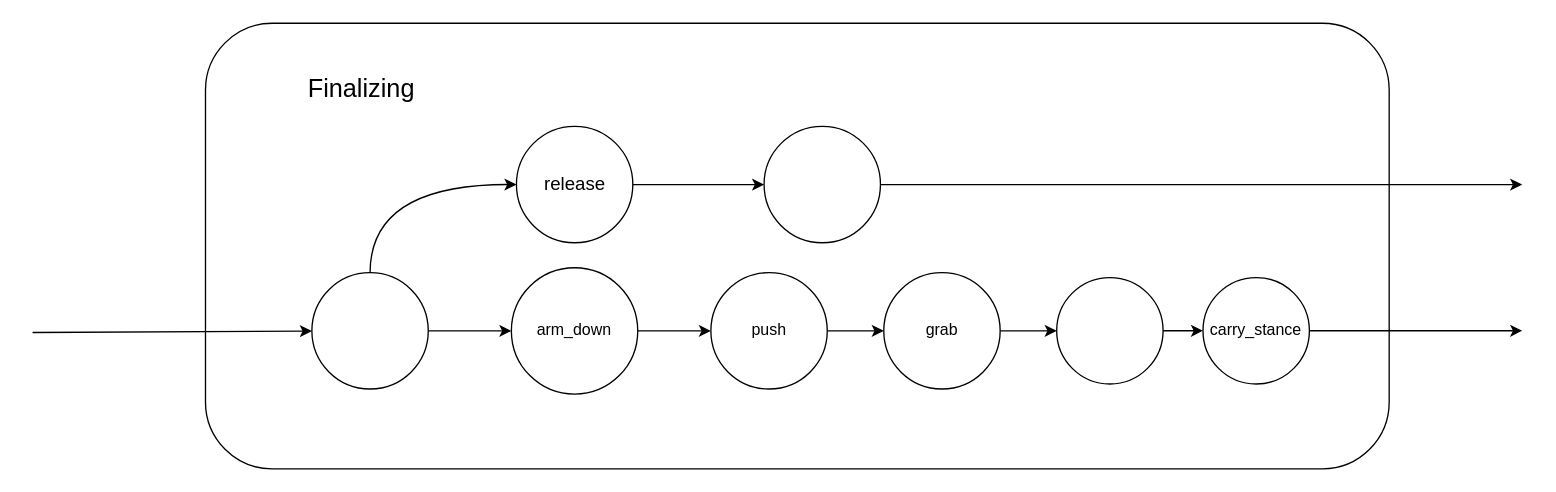
Some shapes in this 1556 by 492 pixel diagram are drawn without their labels. The centre of each missing label's shape, as x and y in pixels:
"Auxiliary" belongs at pixel 369 330.
"empty_stance" belongs at pixel 821 184.
"verify" belongs at pixel 1109 330.
